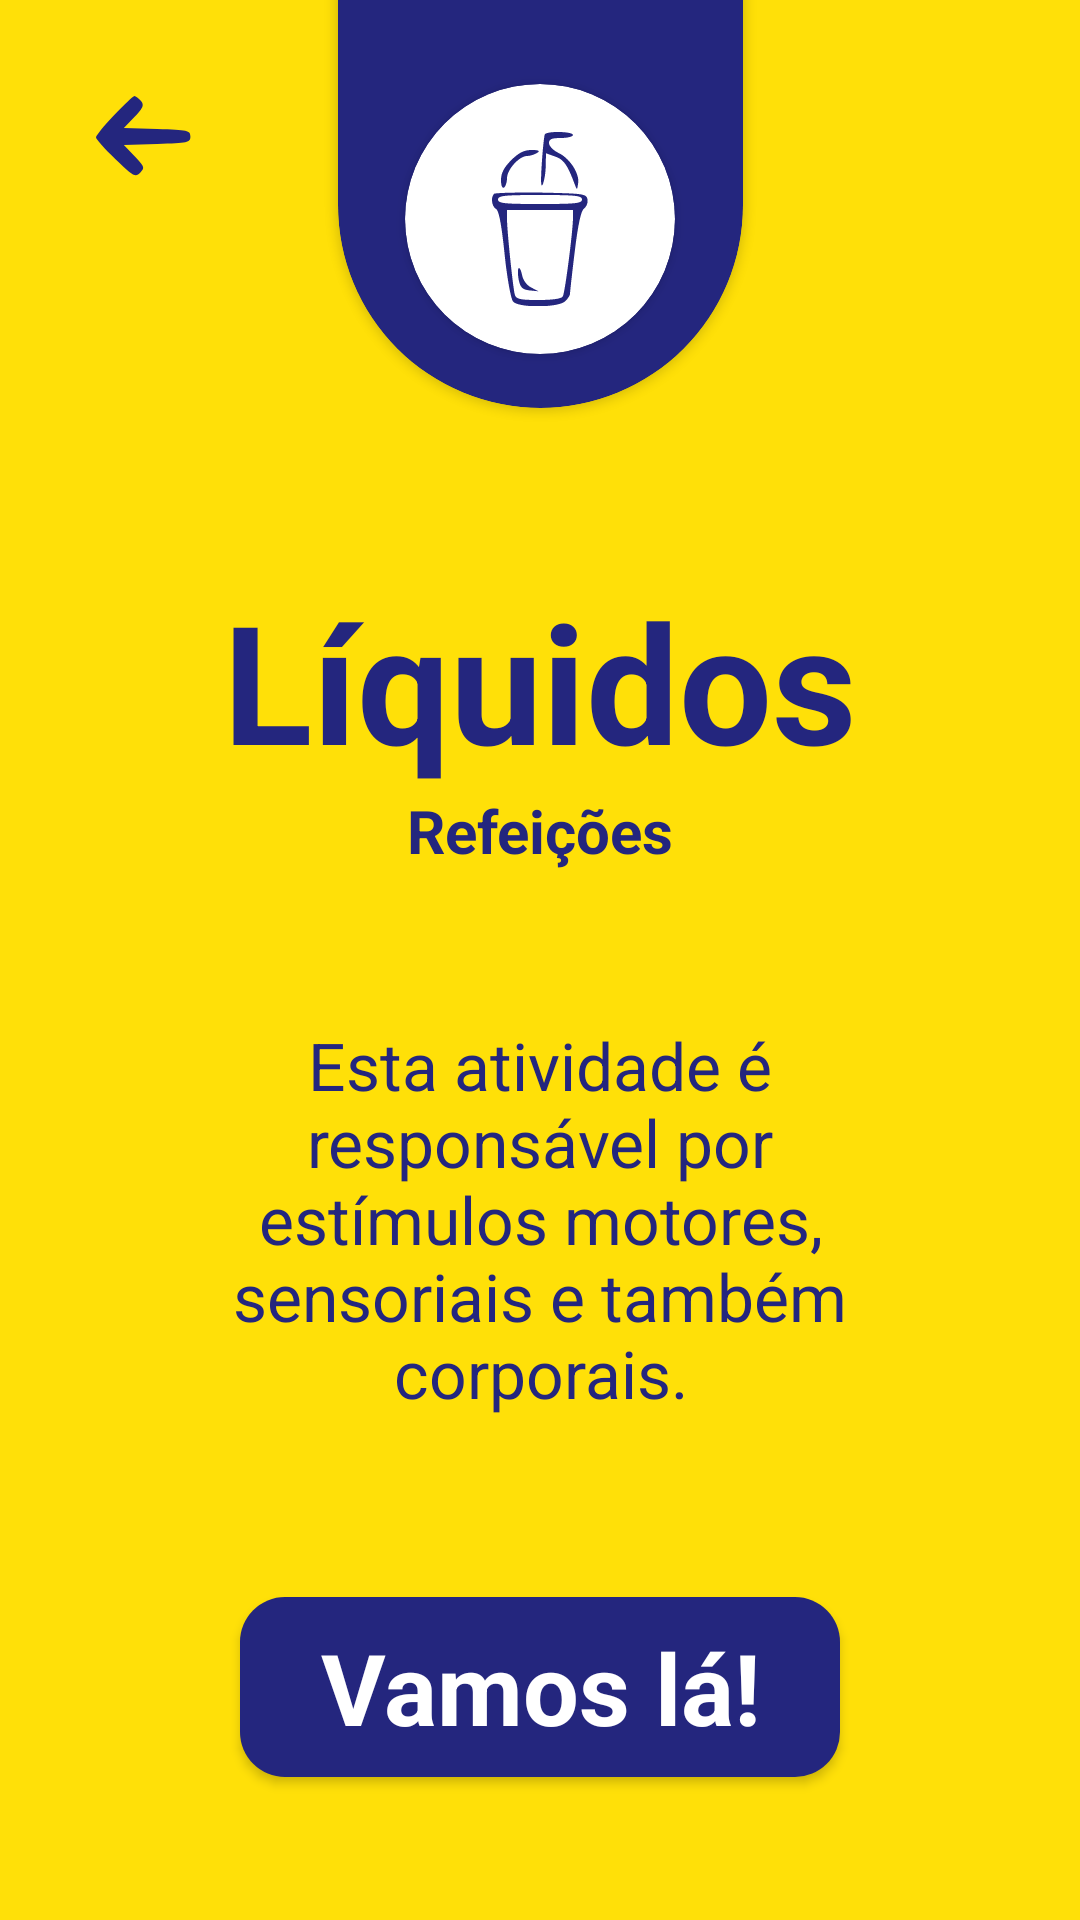

Where to tap for icons on this 1080 × 1920 app screen, as (x,y):
arrow: (143,136)
